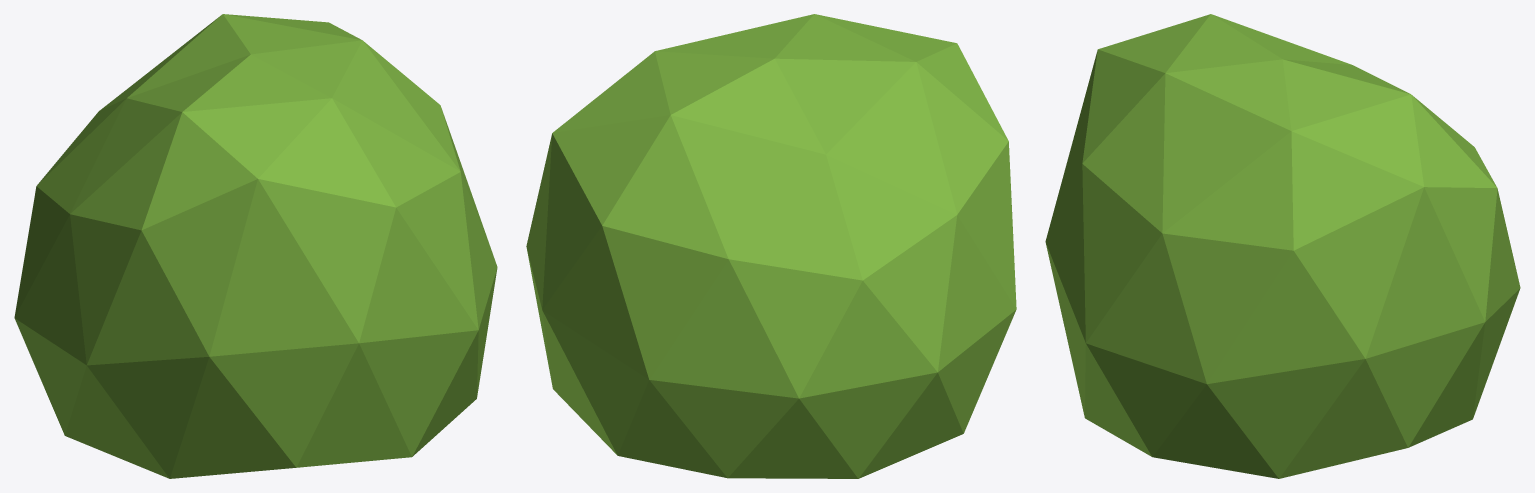
Rendered from bush-M.gltf.
3 renders of one model, left to right at view 1: azimuth 30°, elevation 25°; view 2: azimuth 150°, elevation 25°; view 3: azimuth 270°, elevation 25°, orthographic. The views are drawn at different scales.
Parts seen in each view (by area): view 1: Bush2; view 2: Bush2; view 3: Bush2.
Boxes of the visible parts, bbox=[...] form: Bush2: bbox=[14, 14, 497, 478]; Bush2: bbox=[526, 14, 1016, 478]; Bush2: bbox=[1045, 14, 1520, 478].
Size of the model in its own units: 2.08 by 1.75 by 2.15.
